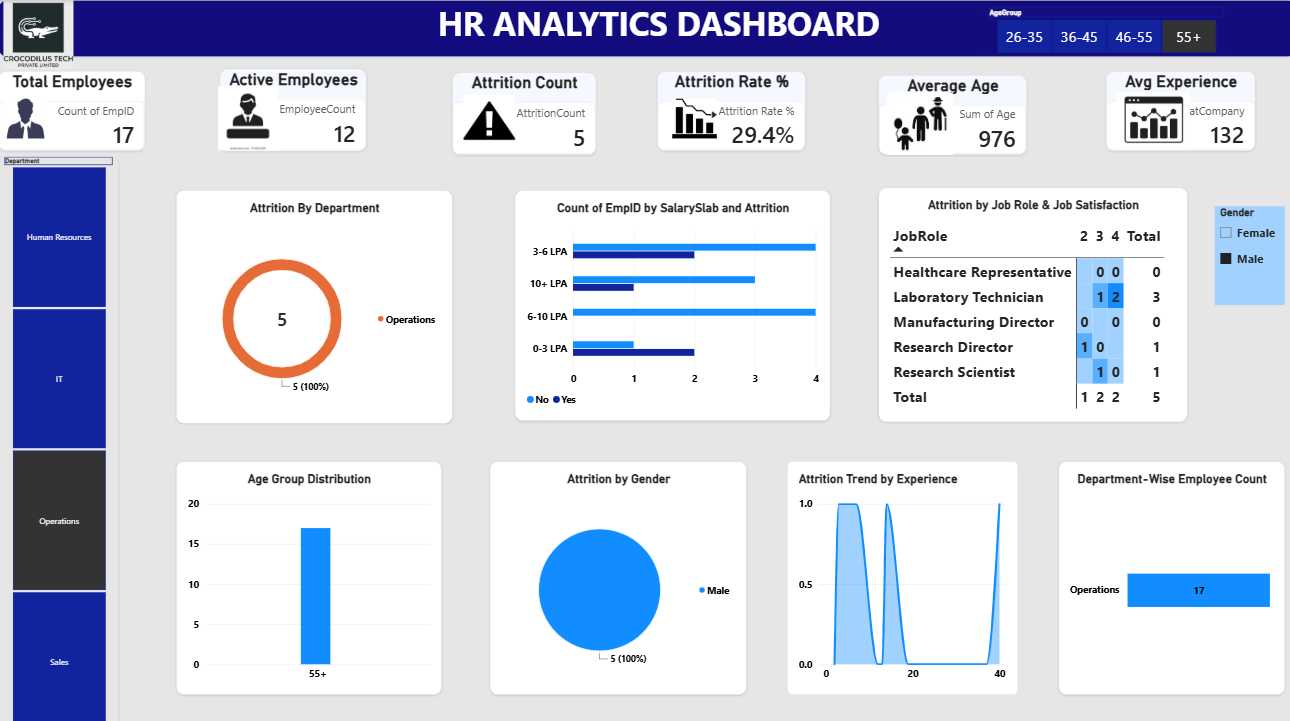

This screenshot's page, from the dashboard's own definition file:
{"tool":"powerbi","page":{"name":"Page 1","canvas":[1920,1080],"ordinal":0},"visuals":[{"type":"textbox","box":[10.3,0,1910.1,84.4],"z":0},{"type":"cardVisual","title":"Total Employees","fields":{"Data":["CountNonNull(HR_Analytics-4.EmpID)"]},"box":[10.3,105,216.1,117.3],"z":1000},{"type":"cardVisual","title":"Active Employees","fields":{"Data":["Sum(HR_Analytics-4.EmployeeCount)"]},"box":[337.6,100.9,216.1,121.4],"z":2000},{"type":"cardVisual","title":"Attrition Count","fields":{"Data":["Sum(HR_Analytics-4.AttritionCount)"]},"box":[679.2,107,212,121.4],"z":3000},{"type":"cardVisual","title":"Attrition Rate %","fields":{"Data":["HR_Analytics-4.Attrition Rate %"]},"box":[981.8,105,218.2,117.3],"z":4000},{"type":"cardVisual","title":"Average Age","fields":{"Data":["Sum(HR_Analytics-4.Age)"]},"box":[1307,111.1,218.2,117.3],"z":5000},{"type":"cardVisual","title":"Avg Experience","fields":{"Data":["Sum(HR_Analytics-4.YearsatCompany)"]},"box":[1642.5,105,220.2,117.3],"z":6000},{"type":"image","box":[10.3,142,80.3,65.9],"z":7000},{"type":"image","box":[1002.4,127.6,65.9,94.7],"z":8000},{"type":"image","box":[1319.4,135.8,96.7,92.6],"z":9000},{"type":"image","box":[1642.5,135.8,137.9,84.4],"z":10000},{"type":"image","box":[695.7,133.8,76.2,86.4],"z":11000},{"type":"image","box":[323.2,127.6,109.1,94.7],"z":12000},{"type":"donutChart","title":"Attrition By Department","fields":{"Category":["HR_Analytics-4.Department"],"Y":["Sum(HR_Analytics-4.AttritionCount)"]},"box":[272.4,279.8,407.5,343.7],"z":13000},{"type":"clusteredBarChart","fields":{"Category":["HR_Analytics-4.SalarySlab"],"Series":["HR_Analytics-4.Attrition"],"Y":["CountNonNull(HR_Analytics-4.EmpID)"]},"box":[771.2,279.8,465.2,339.6],"z":14000},{"type":"pivotTable","title":"Attrition by Job Role & Job Satisfaction","fields":{"Columns":["HR_Analytics-4.JobSatisfaction"],"Rows":["HR_Analytics-4.JobRole"],"Values":["Sum(HR_Analytics-4.AttritionCount)"]},"box":[1306.8,276.1,454.9,345.8],"z":15000},{"type":"columnChart","title":"Age Group Distribution","fields":{"Category":["HR_Analytics-4.AgeGroup"],"Y":["Sum(HR_Analytics-4.EmployeeCount)"]},"box":[271.7,679.2,391.1,343.7],"z":16000},{"type":"pieChart","title":"Attrition by Gender","fields":{"Category":["HR_Analytics-4.Gender"],"Y":["Sum(HR_Analytics-4.AttritionCount)"]},"box":[734.4,679.1,378.7,343.7],"z":17000},{"type":"areaChart","title":"Attrition Trend by Experience","fields":{"Category":["HR_Analytics-4.TotalExperience(Years)"],"Y":["Sum(HR_Analytics-4.AttritionCount)"]},"box":[1172.4,679.1,339.6,343.7],"z":18000},{"type":"funnel","title":"Department-Wise Employee Count","fields":{"Category":["HR_Analytics-4.Department"],"Y":["CountNonNull(HR_Analytics-4.EmpID)"]},"box":[1572.6,679.2,333.4,343.7],"z":19000},{"type":"slicer","fields":{"Values":["HR_Analytics-4.Department"]},"box":[10.3,230.5,177,850.1],"z":20000},{"type":"slicer","fields":{"Values":["HR_Analytics-4.AgeGroup"]},"box":[1461.4,10.3,361,68],"z":21000},{"type":"image","box":[11,0,117.8,101.2],"z":22000},{"type":"slicer","fields":{"Values":["HR_Analytics-4.Gender"]},"box":[1801.9,303.7,103.1,145.4],"z":22001}]}

Visuals, with their boxes in screenshot pixels (x1, y1, x2, y2), scaled from the page's 1920x1080 canvas onto the 1290x721 screenshot:
textbox: <region>7, 0, 1289, 56</region>
"Total Employees" cardVisual: <region>7, 70, 152, 148</region>
"Active Employees" cardVisual: <region>227, 67, 372, 148</region>
"Attrition Count" cardVisual: <region>456, 71, 599, 152</region>
"Attrition Rate %" cardVisual: <region>660, 70, 806, 148</region>
"Average Age" cardVisual: <region>878, 74, 1025, 152</region>
"Avg Experience" cardVisual: <region>1104, 70, 1252, 148</region>
image: <region>7, 95, 61, 139</region>
image: <region>673, 85, 718, 148</region>
image: <region>886, 91, 951, 152</region>
image: <region>1104, 91, 1196, 147</region>
image: <region>467, 89, 519, 147</region>
image: <region>217, 85, 290, 148</region>
"Attrition By Department" donutChart: <region>183, 187, 457, 416</region>
clusteredBarChart - HR_Analytics-4.SalarySlab x HR_Analytics-4.Attrition: <region>518, 187, 831, 414</region>
"Attrition by Job Role & Job Satisfaction" pivotTable: <region>878, 184, 1184, 415</region>
"Age Group Distribution" columnChart: <region>183, 453, 445, 683</region>
"Attrition by Gender" pieChart: <region>493, 453, 748, 683</region>
"Attrition Trend by Experience" areaChart: <region>788, 453, 1016, 683</region>
"Department-Wise Employee Count" funnel: <region>1057, 453, 1281, 683</region>
slicer - HR_Analytics-4.Department: <region>7, 154, 126, 720</region>
slicer - HR_Analytics-4.AgeGroup: <region>982, 7, 1224, 52</region>
image: <region>7, 0, 87, 68</region>
slicer - HR_Analytics-4.Gender: <region>1211, 203, 1280, 300</region>
